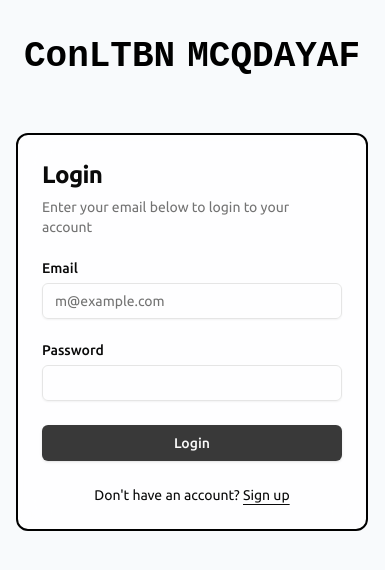
authentication › shows a readable error when login fails
Type "ada@example.com" into the field labelled "Email" at x=192, y=301, box x1=42 y1=283 x2=342 y2=319
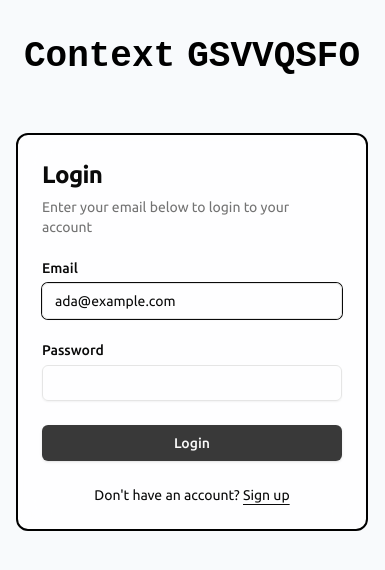
Type "wrong-password" into the password field labelled "Password" at x=192, y=383, box x1=42 y1=365 x2=342 y2=401
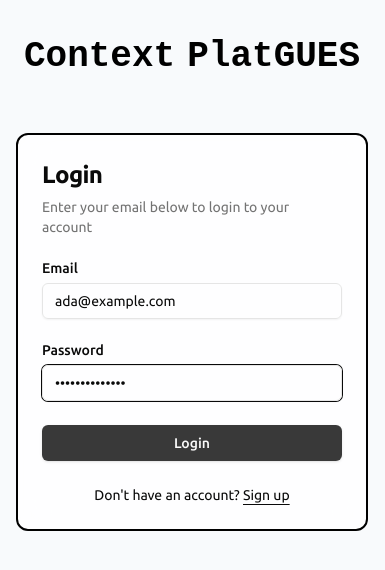
Click the button "Login" at x=192, y=443, box x1=42 y1=425 x2=342 y2=461
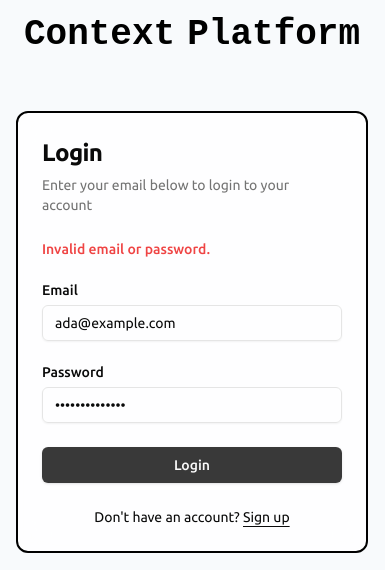
Now the message reads "Invalid email or password.", box x1=42 y1=241 x2=210 y2=257
